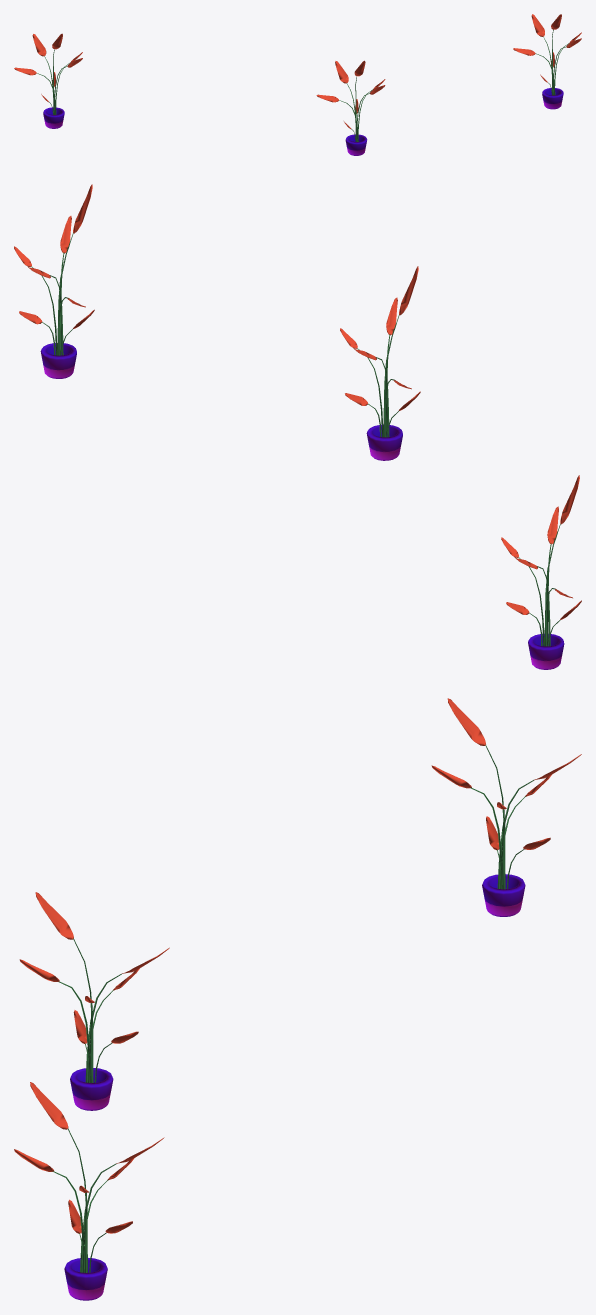
Rendered from Flowers.glb.
3 views of the same model, one above another, from view 1: azimuth 30°, elevation 25°; view 2: azimuth 150°, elevation 25°; view 3: azimuth 270°, elevation 25° (orthographic). The views are drawn at different scales.
Visible parts, largest first — view 1: Flowers; view 2: Flowers; view 3: Flowers.
Boxes of the visible parts, x1,y1,x2,y2 form: Flowers: (14, 14, 581, 155); Flowers: (14, 184, 581, 669); Flowers: (14, 698, 581, 1300).
Bounding box in the file's own units: 26.05 × 5.74 × 14.28.
Materials: 3 (3 with a texture image).
